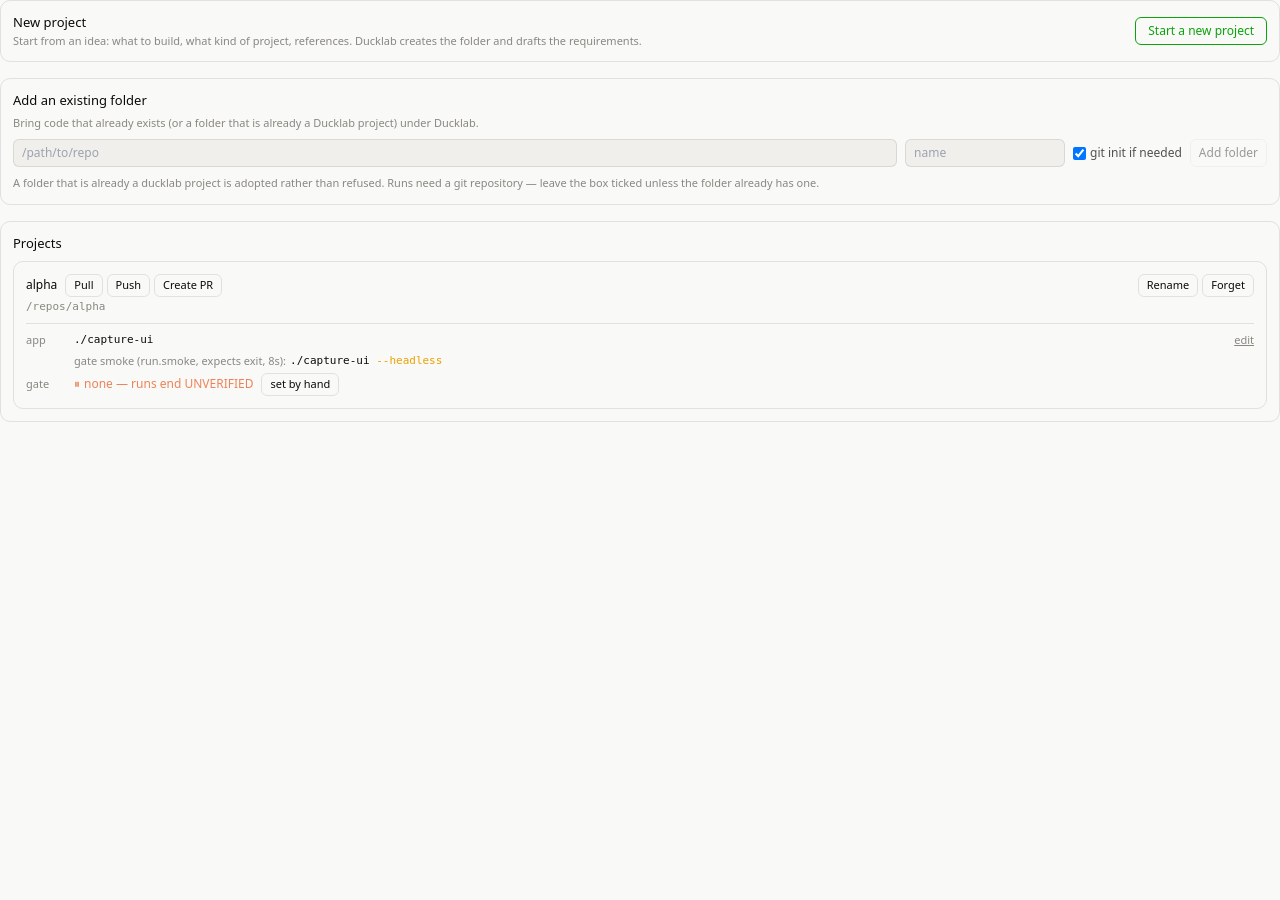
Scenario: Projects › shows and edits the exact command used by the product-smoke gate
Expected: the element with test id "app-smoke-effective" shows "run.smoke, expects exit, 8s", [74,352,442,368]
Expected: the element with test id "app-smoke-effective" shows "./capture-ui --headless", [74,352,442,368]
Step 1. Click the button with test id "app-edit" → click(1244, 340), box [1234,332,1254,348]
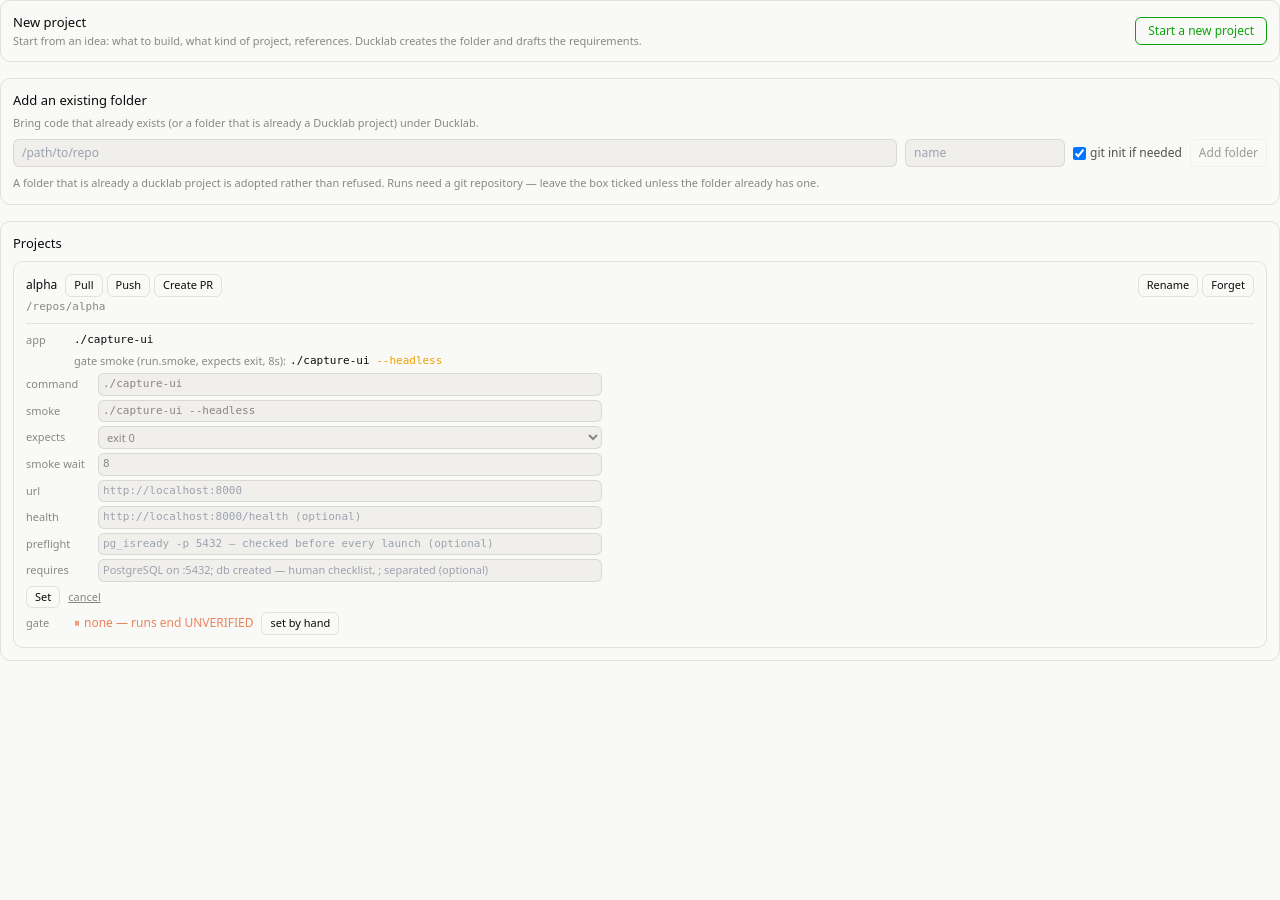
Result: the field with test id "app-smoke" holds "./capture-ui --headless" at [98,400,602,422]
Result: the field with test id "app-smoke-timeout" holds "8" at [98,453,602,476]
Result: the dropdown with test id "app-smoke-expect" shows "exit 0" at [98,426,602,449]
